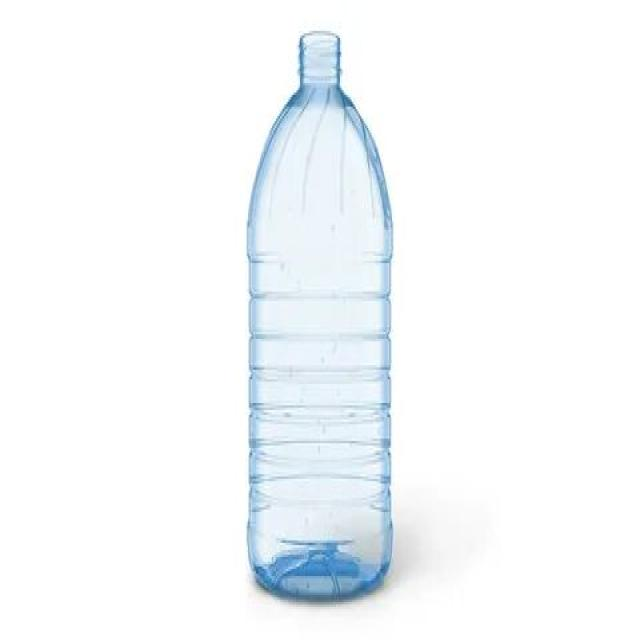blue: (246, 33, 392, 596)
